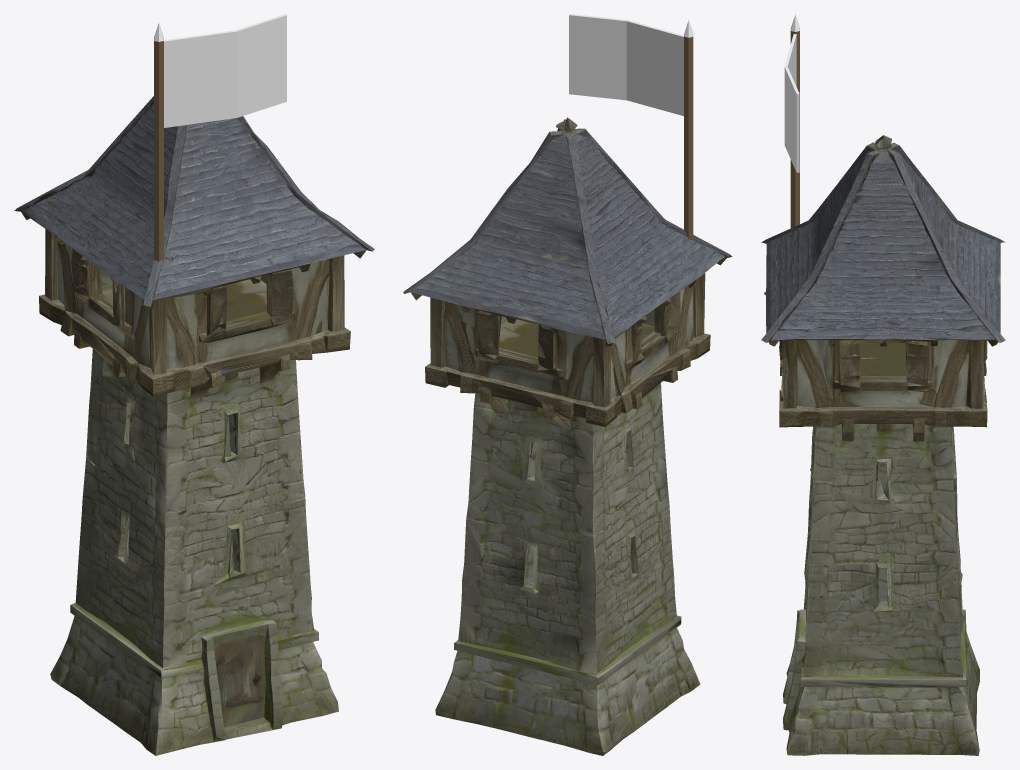
The picture shows the model from 3 angles, left to right: view 1: azimuth 30°, elevation 25°; view 2: azimuth 150°, elevation 25°; view 3: azimuth 270°, elevation 25°; orthographic projection. The views are drawn at different scales.
Parts seen in each view (by area): view 1: guard_tower, Team_banner; view 2: guard_tower, Team_banner; view 3: guard_tower, Team_banner.
Part boxes in pixels (left/top/right/bottom): guard_tower: left=14, top=96, right=374, bottom=755; Team_banner: left=154, top=14, right=286, bottom=262; guard_tower: left=403, top=117, right=732, bottom=755; Team_banner: left=569, top=14, right=693, bottom=239; guard_tower: left=761, top=135, right=1005, bottom=755; Team_banner: left=784, top=14, right=799, bottom=231.
Bounding box in the file's own units: 0.7222 × 2.16 × 0.7224.
Materials: 3 (1 with a texture image).
